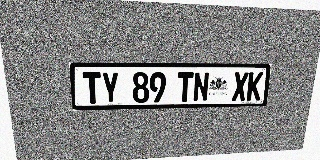8: (132, 72, 149, 103)
9: (150, 72, 166, 103)
K: (246, 72, 263, 101)
N: (193, 72, 210, 102)
T: (82, 72, 102, 104), (177, 72, 194, 102)
X: (232, 72, 249, 101)
Y: (101, 72, 119, 104)
